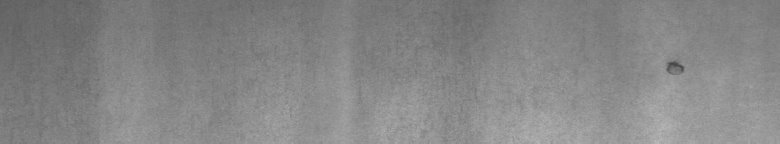fi: (661, 52, 688, 80)
